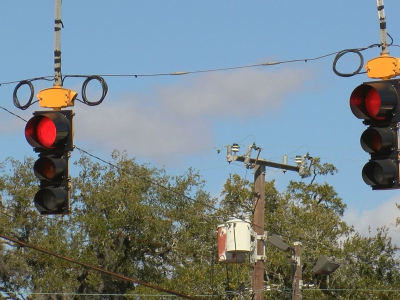trafficlight_red: (354, 84, 393, 189), (29, 116, 67, 214)
